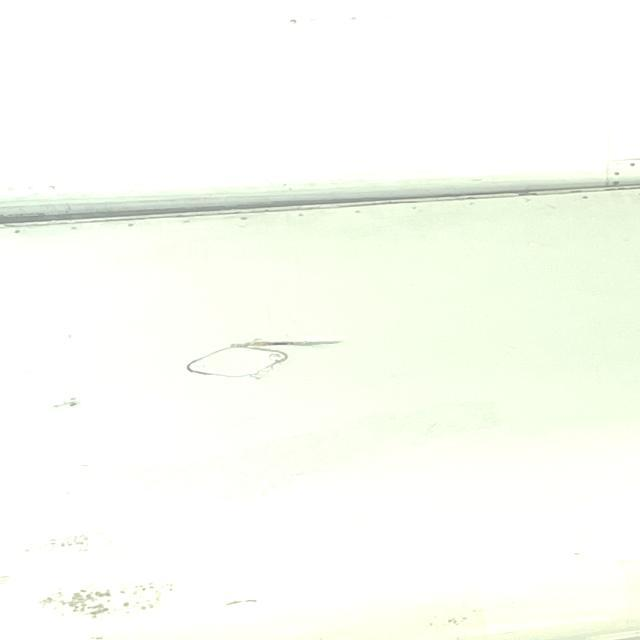crack: (238, 340, 336, 356)
